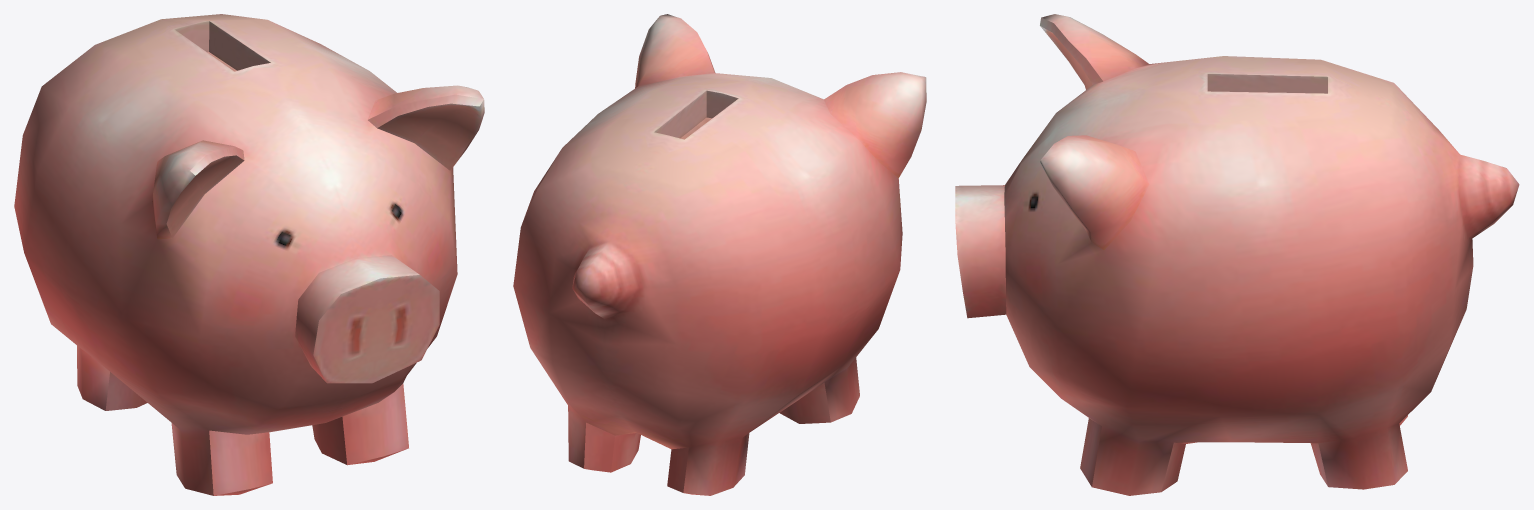
File: piggy bank.FBX
3 views of the same model, side by side, from view 1: azimuth 30°, elevation 25°; view 2: azimuth 150°, elevation 25°; view 3: azimuth 270°, elevation 25° (orthographic). The views are drawn at different scales.
Visible parts, largest first — view 1: 0__Material__206; view 2: 0__Material__206; view 3: 0__Material__206.
Boxes of the visible parts, x1,y1,x2,y2 form: 0__Material__206: (14, 14, 484, 495); 0__Material__206: (513, 14, 926, 495); 0__Material__206: (955, 14, 1519, 495).
Size of the model in its own units: 2.3 by 2.37 by 3.25.
Materials: 1 (1 with a texture image).
